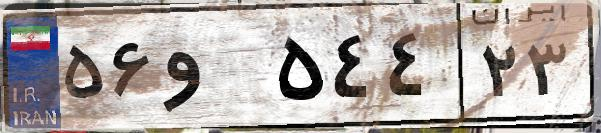2: (475, 38, 525, 113)
3: (525, 38, 570, 115)
4: (385, 28, 445, 110), (330, 28, 385, 110)
5: (270, 28, 330, 110), (57, 26, 110, 100)
6: (110, 28, 158, 98)
و: (158, 20, 270, 120)
